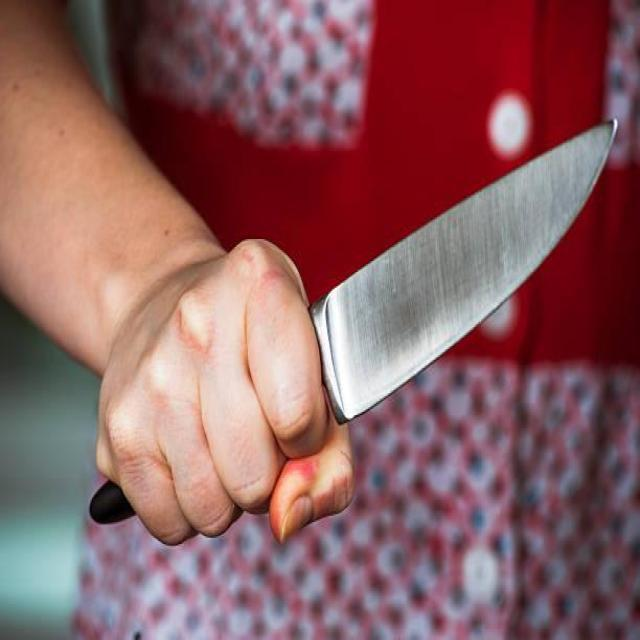faca: (86, 107, 632, 590)
